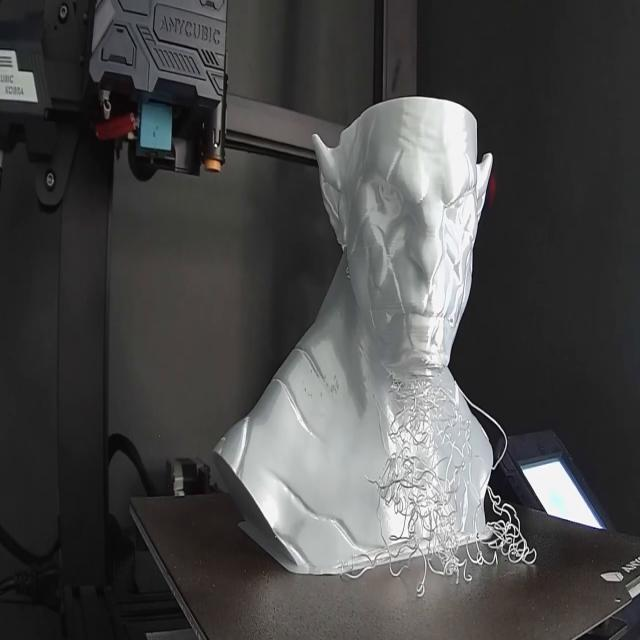spaghetti: (328, 372, 539, 602)
